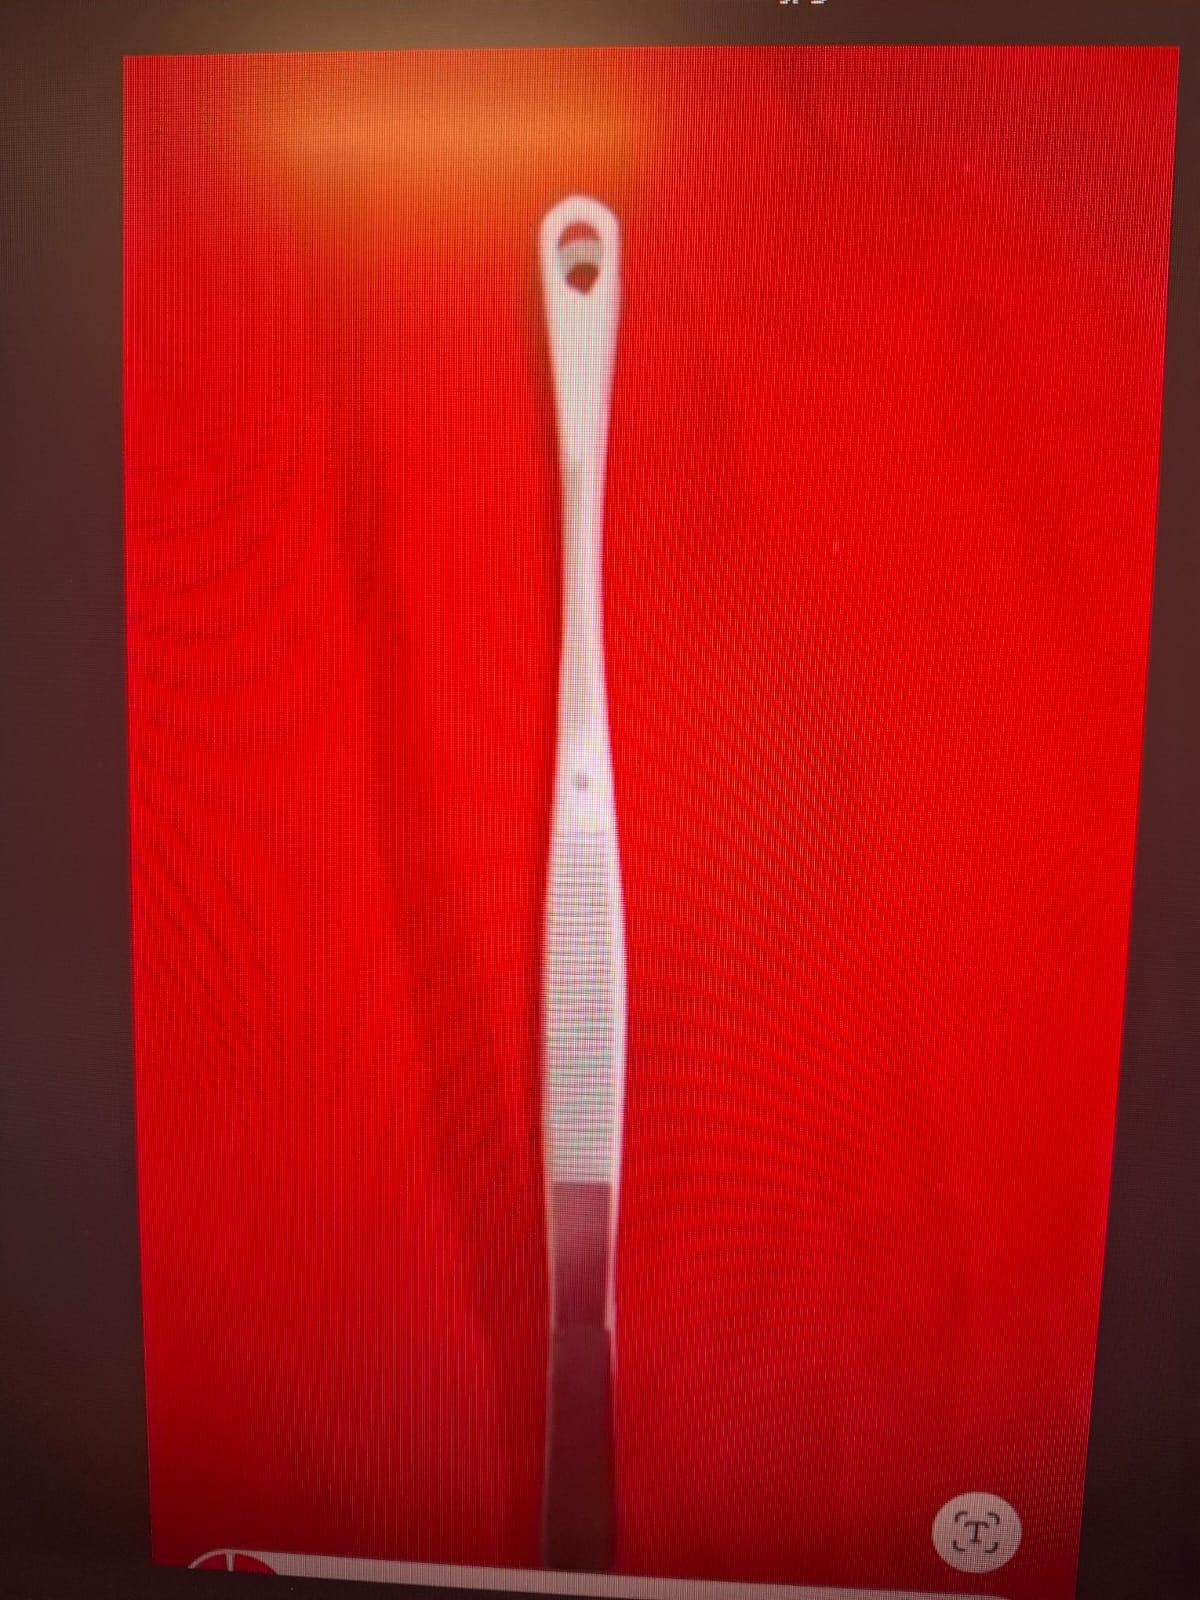Eye Intestinal Forceps: (498, 175, 684, 1580)
